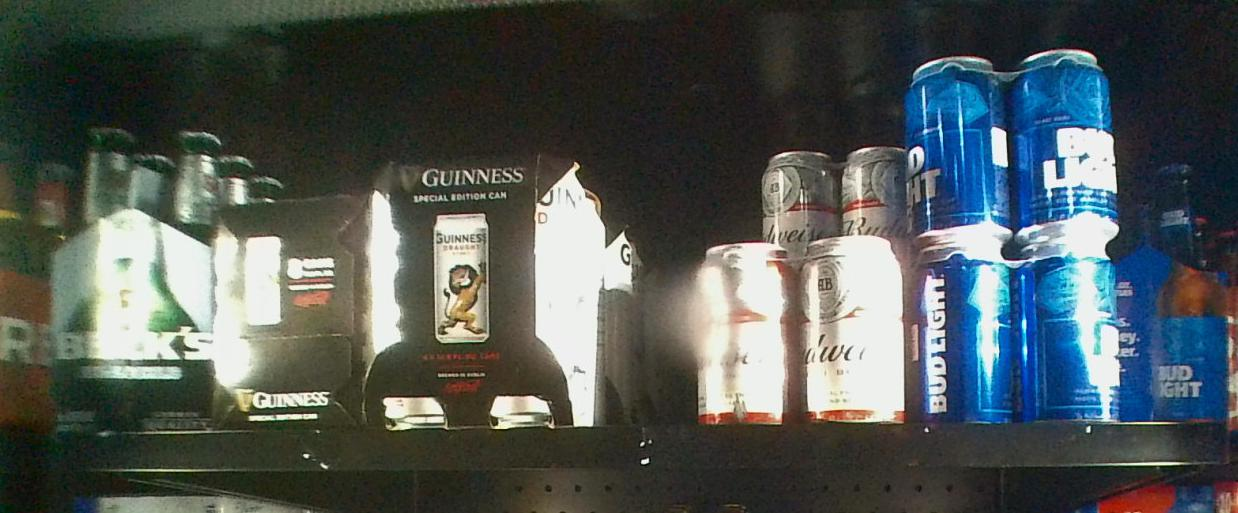bottle: (907, 50, 1120, 420), (374, 155, 586, 429), (47, 122, 213, 431), (696, 235, 908, 426), (210, 197, 367, 432), (1131, 164, 1226, 423)
